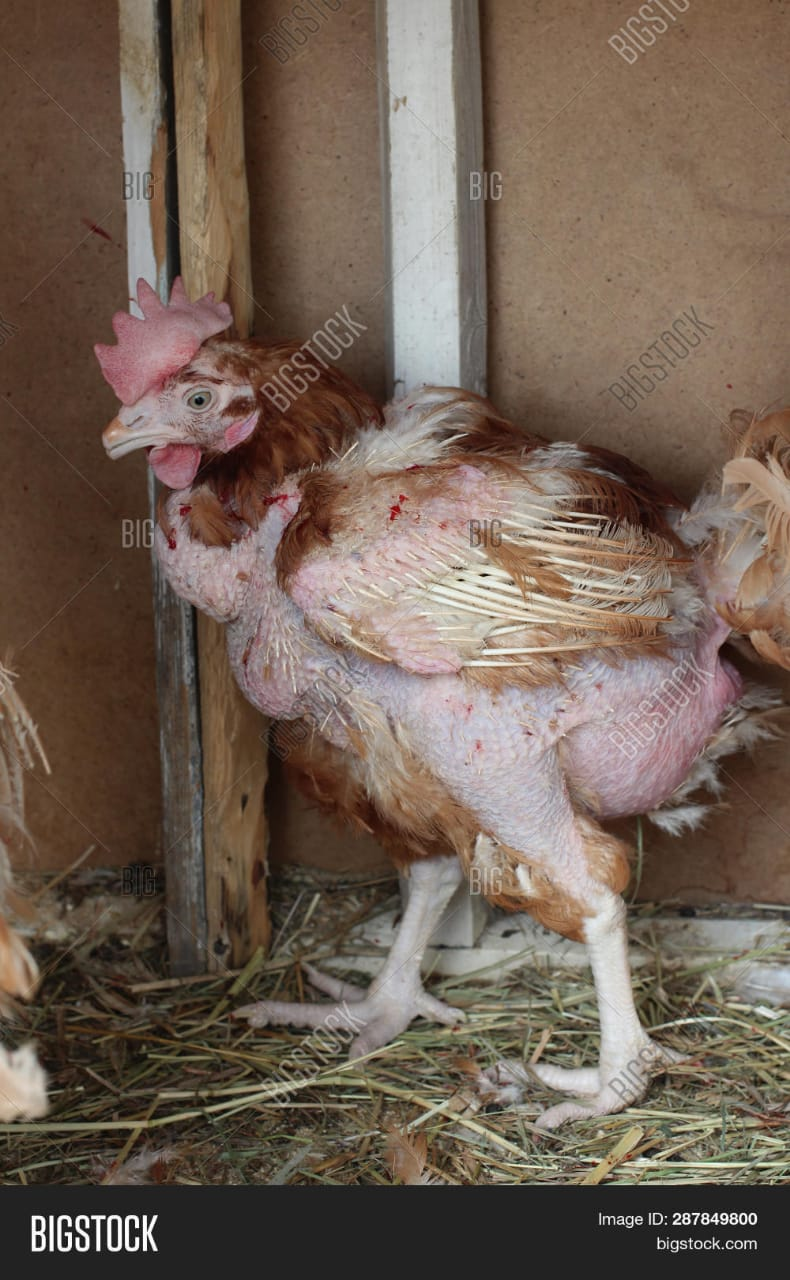Unhealthy: (68, 229, 774, 1123)
